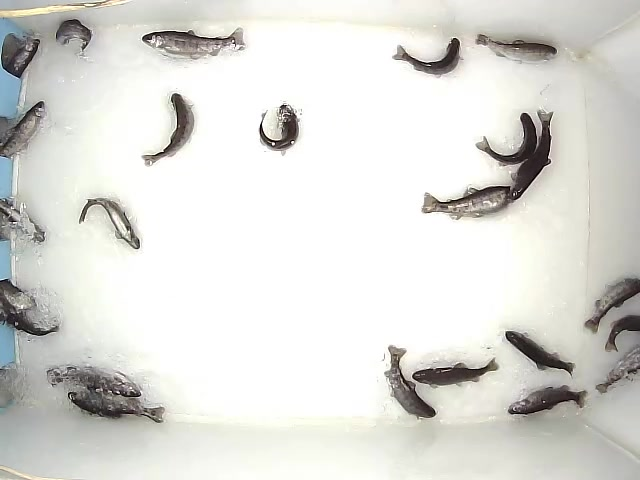fish: (140, 91, 195, 168), (510, 108, 555, 202), (384, 343, 438, 421), (141, 26, 249, 61), (420, 185, 521, 222), (505, 330, 578, 379), (475, 111, 538, 166), (78, 196, 141, 250), (45, 363, 142, 398), (68, 390, 165, 425), (583, 276, 640, 334), (391, 36, 465, 80), (474, 33, 559, 67), (412, 357, 501, 389), (1, 99, 46, 160), (507, 384, 589, 416), (258, 102, 300, 157), (595, 344, 640, 395), (55, 19, 93, 54)
